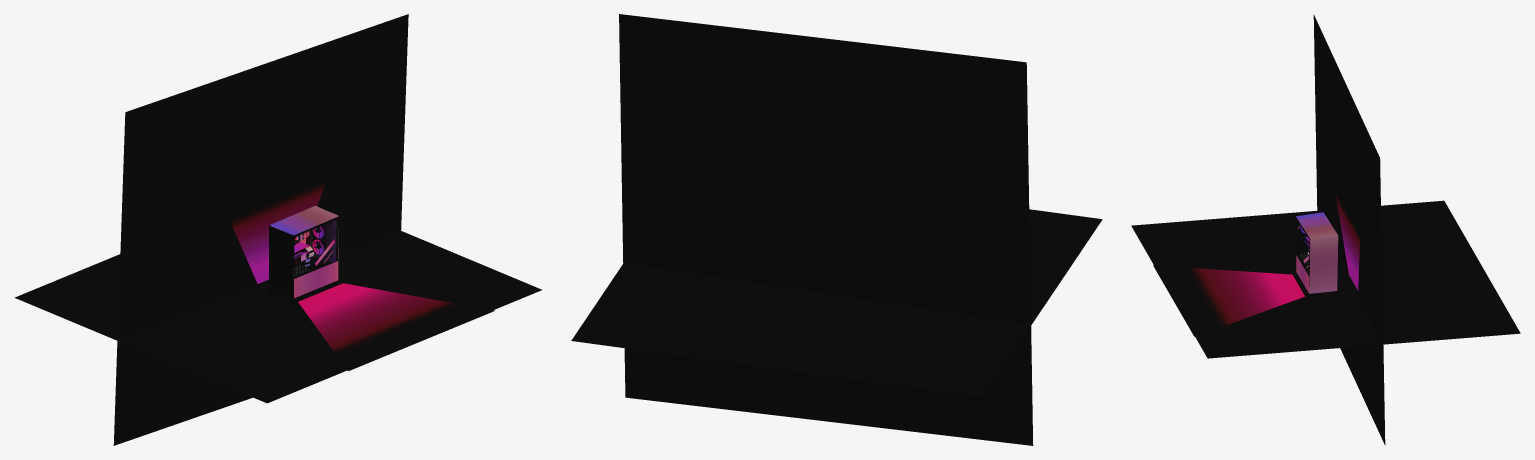
The model's file is computer__color.glb.
3 views of the same model, side by side, from view 1: azimuth 30°, elevation 25°; view 2: azimuth 150°, elevation 25°; view 3: azimuth 270°, elevation 25° (orthographic). The views are drawn at different scales.
Visible parts, largest first — view 1: NewLayer0; view 2: NewLayer0; view 3: NewLayer0.
Part boxes in pixels (box(x1,y1,x2,y2)): NewLayer0: box(15, 14, 541, 445); NewLayer0: box(571, 14, 1102, 445); NewLayer0: box(1131, 14, 1520, 445).
Size of the model in its own units: 3.22 by 2.67 by 3.16.
